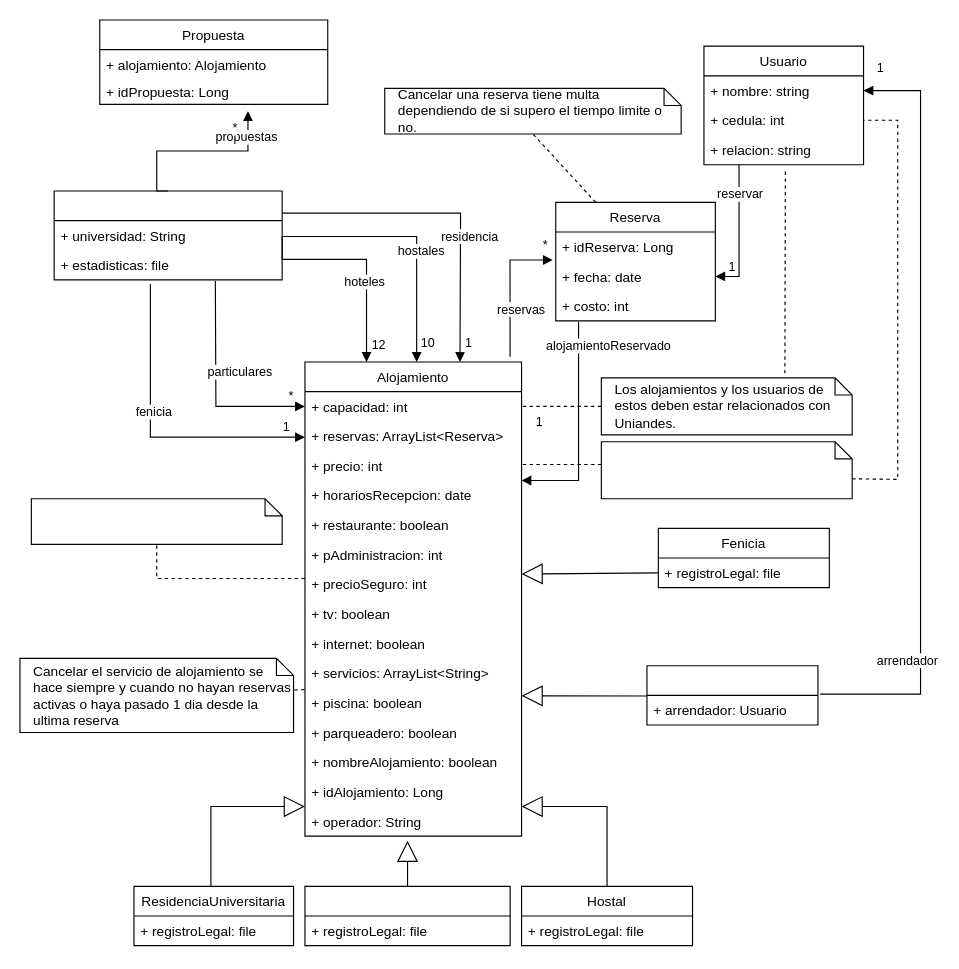
This 959x969 diagram has some shape labels left out. The box of each missing label's shape, as (x1, y1, x2, y2) in pixels:
AlohAndes: (53, 190, 282, 280)
Hotel: (304, 885, 510, 946)
Particular: (646, 665, 818, 725)
Un alojamiento no acepta reservas que superen su capacidad: (30, 498, 282, 544)
Una persona solo puede reservar un alojamiento por dia: (600, 441, 852, 499)
